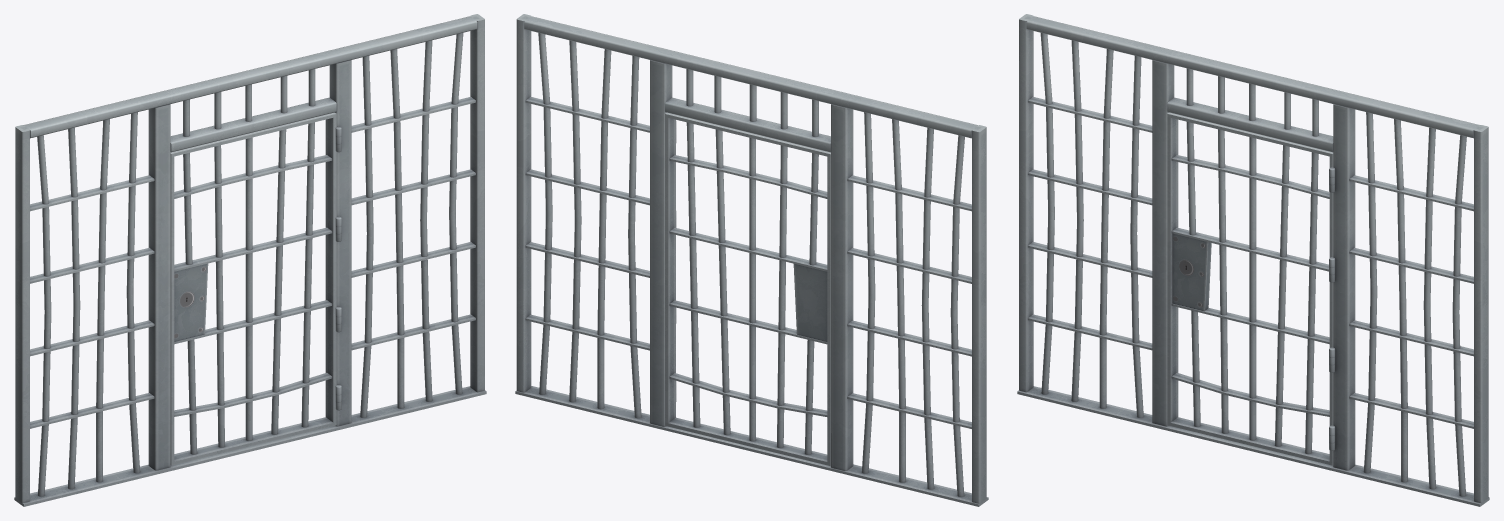
Rendered from BankMetalBar01.FBX.
3 renders of one model, left to right at view 1: azimuth 30°, elevation 25°; view 2: azimuth 150°, elevation 25°; view 3: azimuth 330°, elevation 25°, orthographic.
Parts seen in each view (by area): view 1: Frame, Door; view 2: Frame, Door; view 3: Frame, Door.
Boxes of the visible parts, x1,y1,x2,y2 form: Frame: (14, 14, 486, 506); Door: (170, 112, 336, 465); Frame: (515, 14, 988, 506); Door: (665, 112, 830, 465); Frame: (1017, 14, 1489, 506); Door: (1167, 112, 1333, 465).
Size of what is drawn, in the model's own units: 3.5 by 2.7 by 0.1449.
